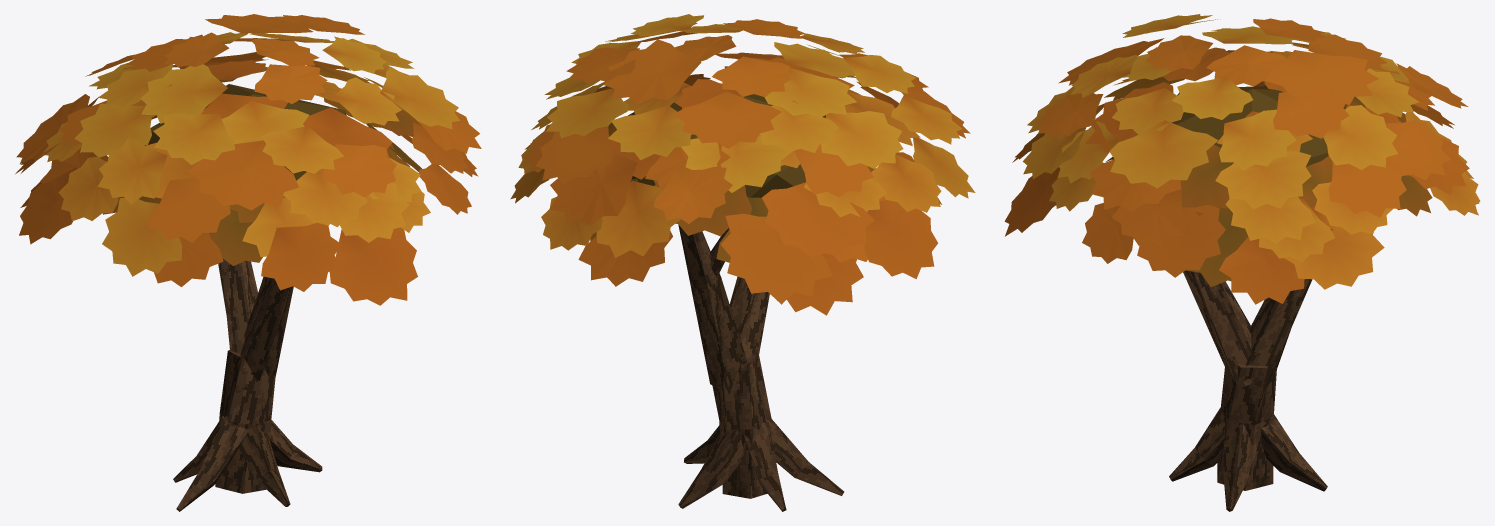
The model's file is tree_a.glb.
3 views of the same model, side by side, from view 1: azimuth 30°, elevation 25°; view 2: azimuth 150°, elevation 25°; view 3: azimuth 270°, elevation 25° (orthographic). The views are drawn at different scales.
Parts seen in each view (by area): view 1: sway_crown, tree_a; view 2: sway_crown, tree_a; view 3: sway_crown, tree_a.
Boxes of the visible parts, x1,y1,x2,y2 form: sway_crown: [15, 14, 481, 380]; tree_a: [173, 350, 322, 511]; sway_crown: [510, 14, 975, 394]; tree_a: [678, 354, 844, 511]; sway_crown: [1004, 14, 1480, 388]; tree_a: [1169, 363, 1327, 511].
Bounding box in the file's own units: 4.4 × 4.51 × 4.4.
Materials: 3 (1 with a texture image).
